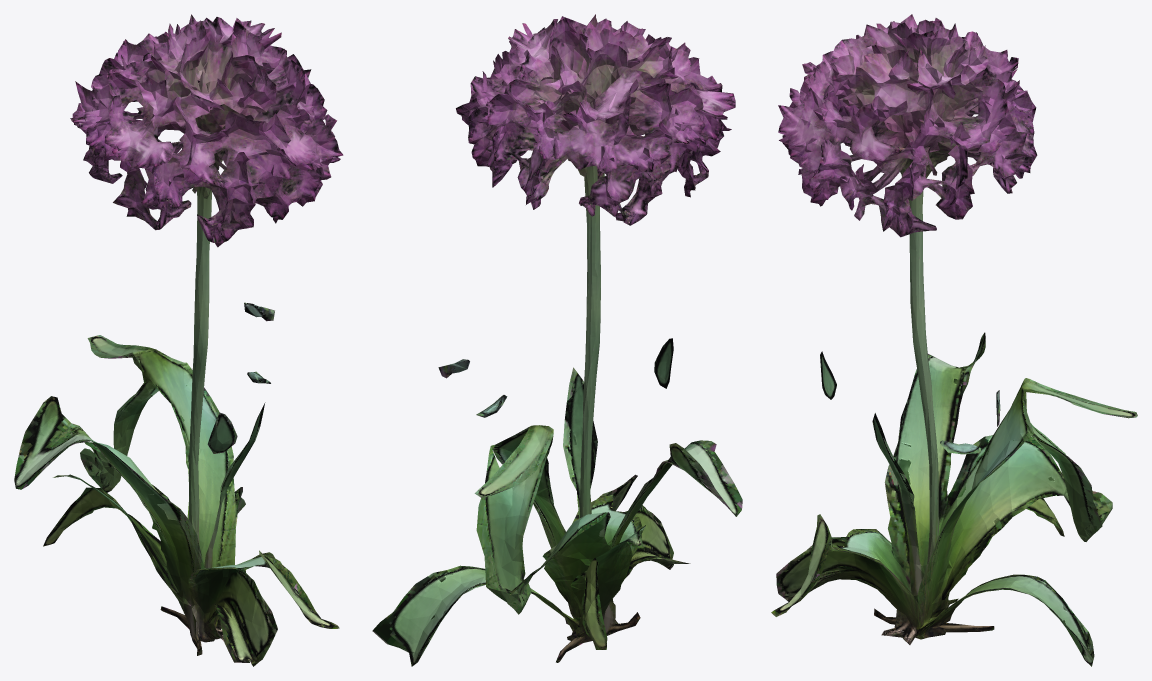
The model's file is Purple Allium Flower.glb.
3 views of the same model, side by side, from view 1: azimuth 30°, elevation 25°; view 2: azimuth 150°, elevation 25°; view 3: azimuth 270°, elevation 25° (orthographic).
Parts seen in each view (by area): view 1: world; view 2: world; view 3: world.
Part boxes in pixels (box(x1,y1,x2,y2)): world: box(14, 14, 343, 666); world: box(372, 14, 742, 666); world: box(771, 14, 1137, 666).
Bounding box in the file's own units: 0.5085 × 0.9997 × 0.5501.
1 material, 1 textured.
